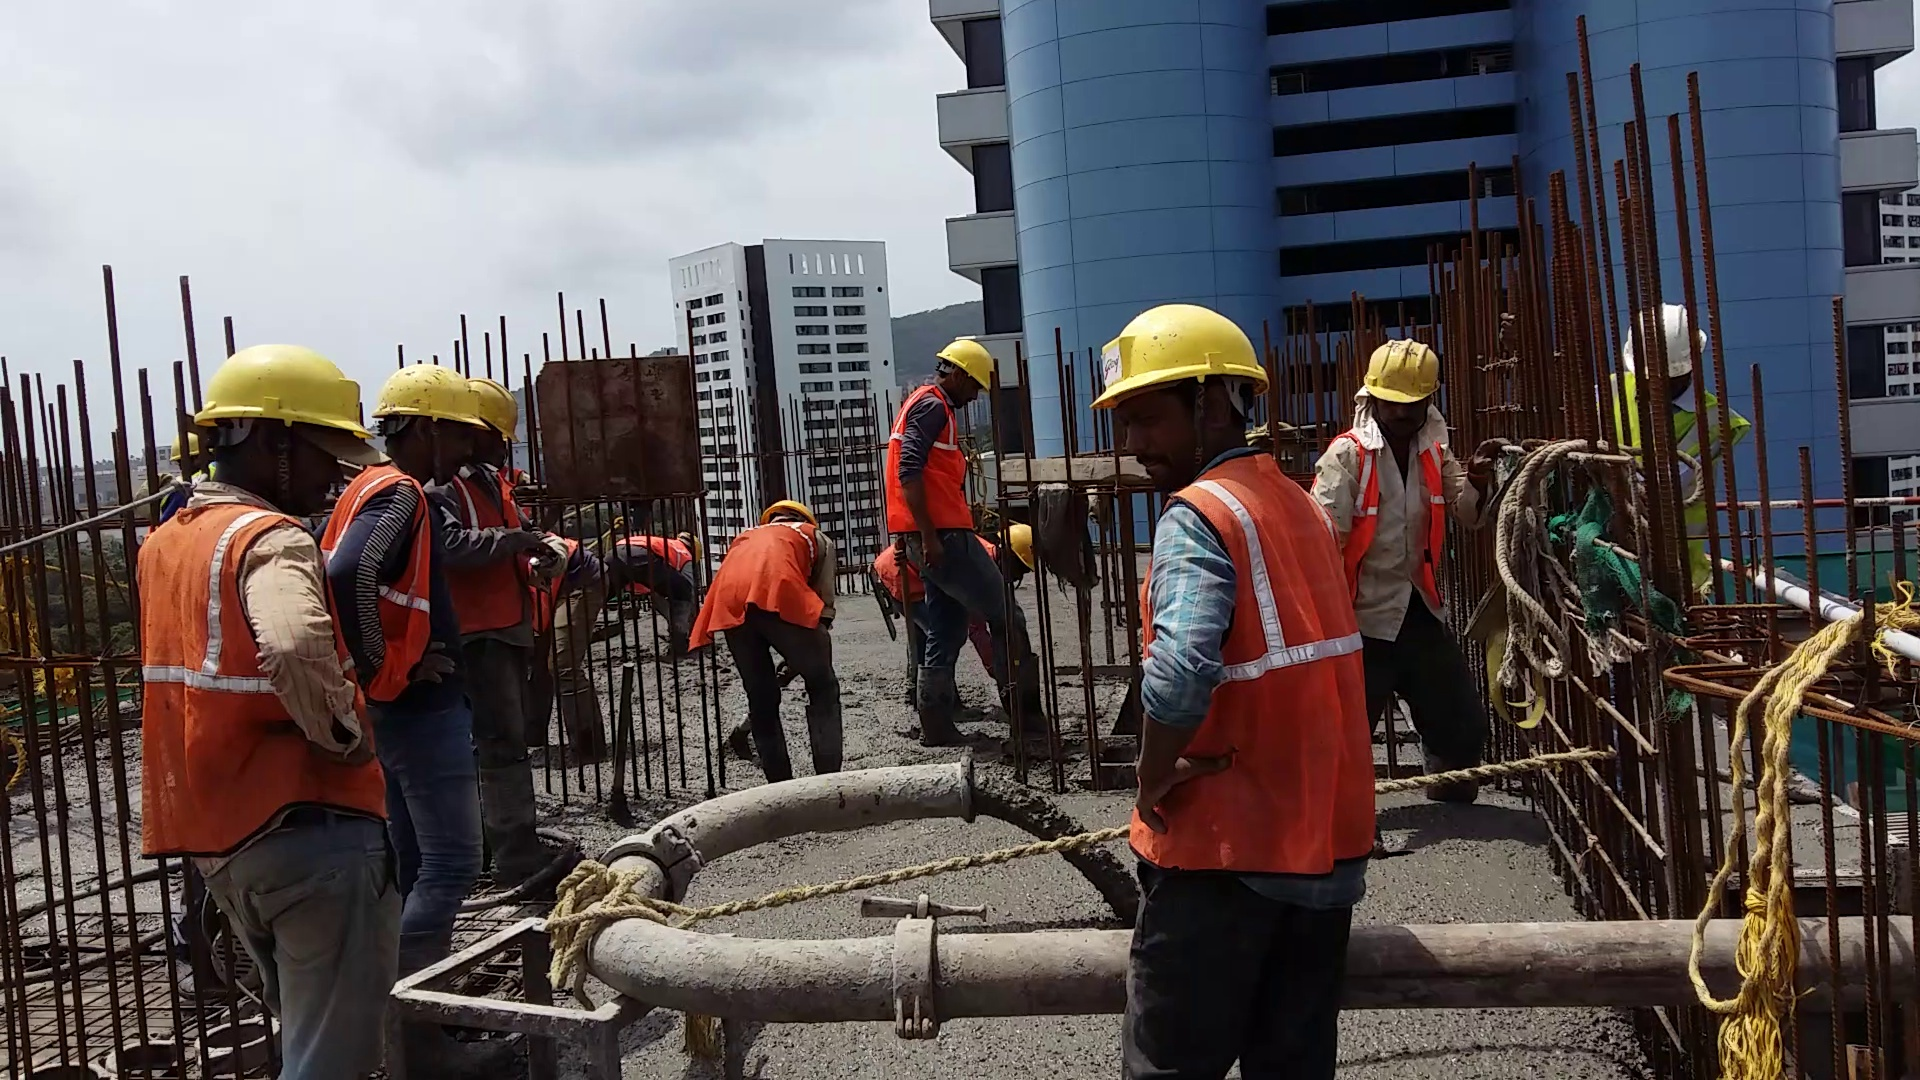SAFE: (1093, 293, 1331, 868), (138, 330, 363, 840), (1360, 342, 1466, 663), (372, 357, 460, 709), (881, 340, 1000, 537), (694, 498, 843, 636)
